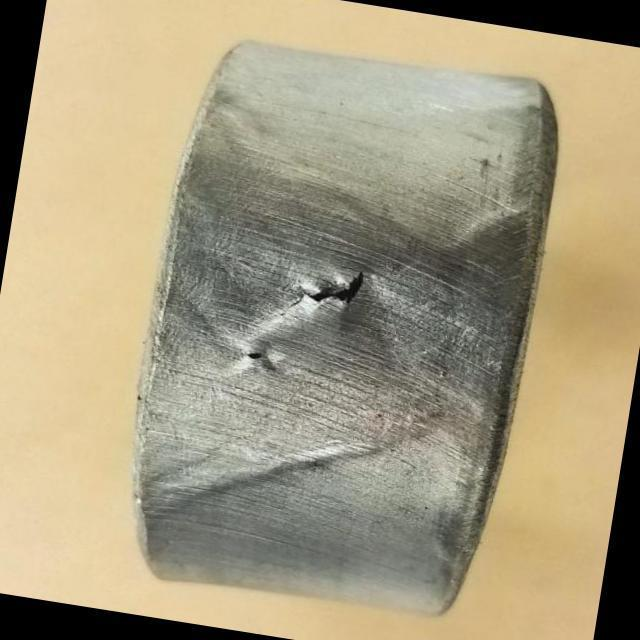defect: (275, 268, 375, 316)
